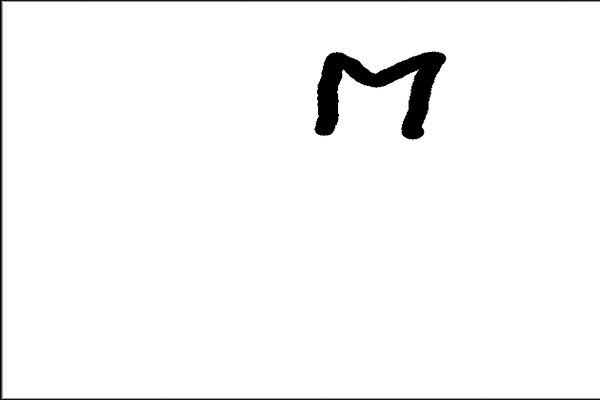M: (311, 48, 447, 146)
